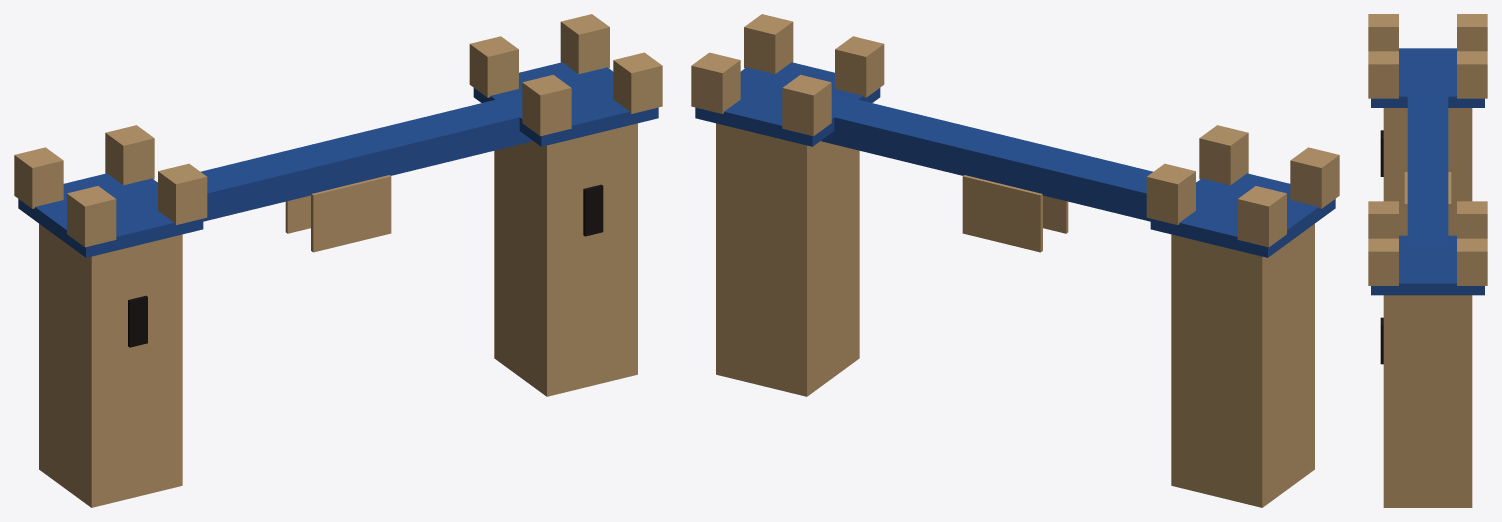
File: gnoll_gate.glb
3 views of the same model, side by side, from view 1: azimuth 30°, elevation 25°; view 2: azimuth 150°, elevation 25°; view 3: azimuth 270°, elevation 25° (orthographic). The views are drawn at different scales.
Parts seen in each view (by area): view 1: gnoll_gate; view 2: gnoll_gate; view 3: gnoll_gate.
Boxes of the visible parts, x1=… form: gnoll_gate: x1=14, y1=14, x2=662, y2=507; gnoll_gate: x1=691, y1=14, x2=1339, y2=507; gnoll_gate: x1=1368, y1=14, x2=1487, y2=507.
Size of the model in its own units: 4.44 by 2.29 by 0.94.
